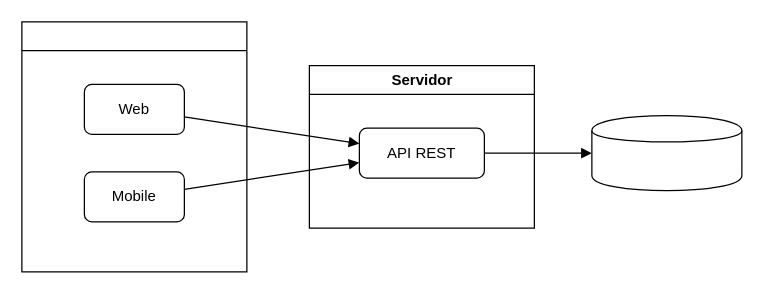
Image size: 764x294. Some labels were removed from this diagram. Here are the shapes that lost their labels. From the top down, the box of each, then its label:
(21, 21, 247, 272): Usuário
(591, 114, 742, 191): Banco de Dados
